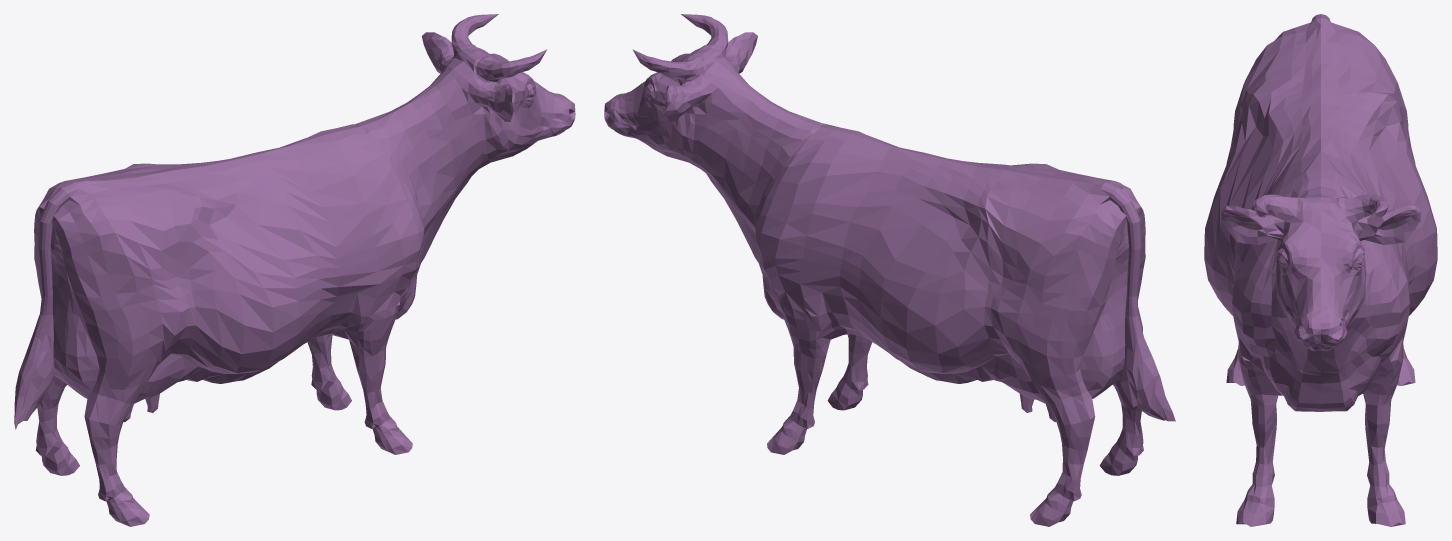
File: cow_centered.obj
3 views of the same model, side by side, from view 1: azimuth 30°, elevation 25°; view 2: azimuth 150°, elevation 25°; view 3: azimuth 270°, elevation 25° (orthographic). The views are drawn at different scales.
Size of the model in its own units: 4.6 by 2.82 by 1.5.
